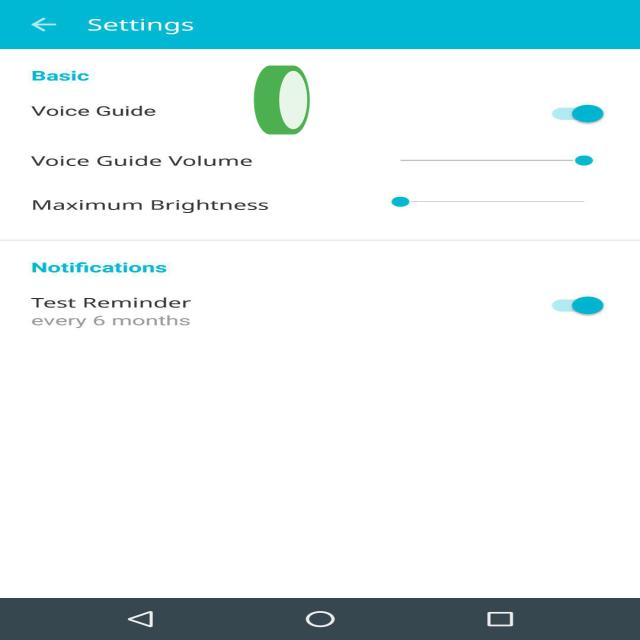social proof: (252, 39, 312, 166)
